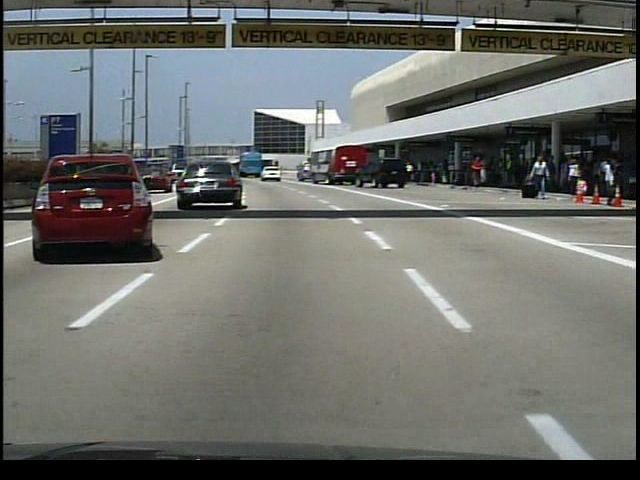person: (525, 153, 548, 200), (469, 155, 487, 188), (403, 162, 415, 187)
